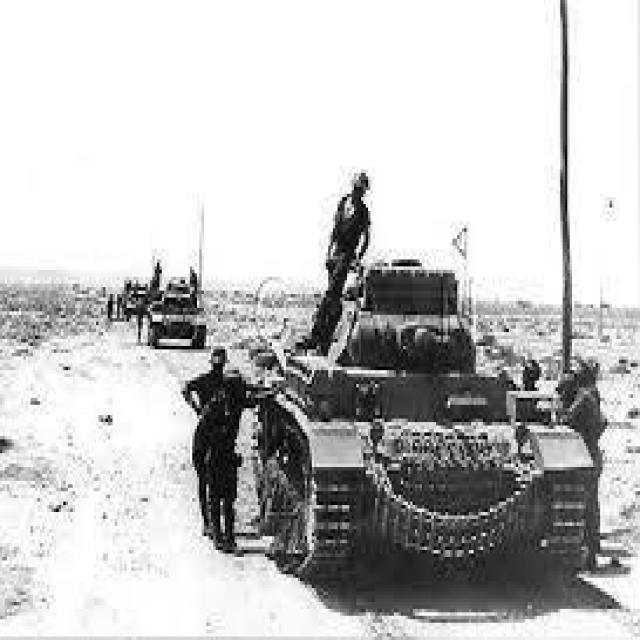Tanks: (258, 246, 593, 592)
